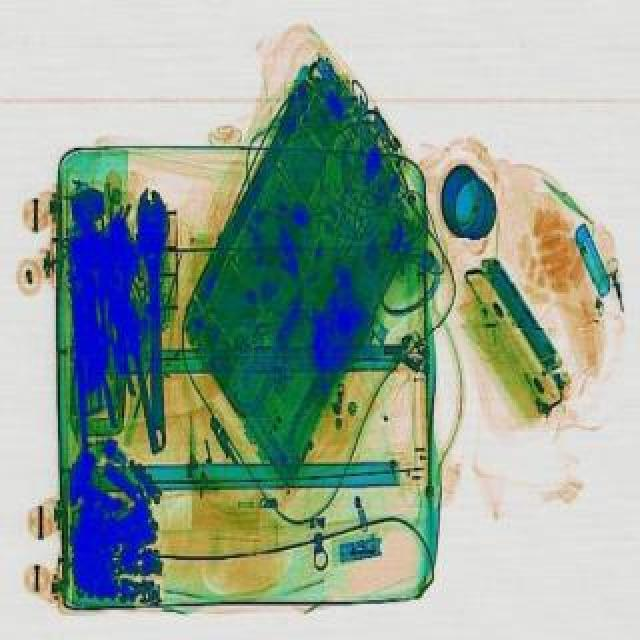scissors: (138, 184, 178, 448)
